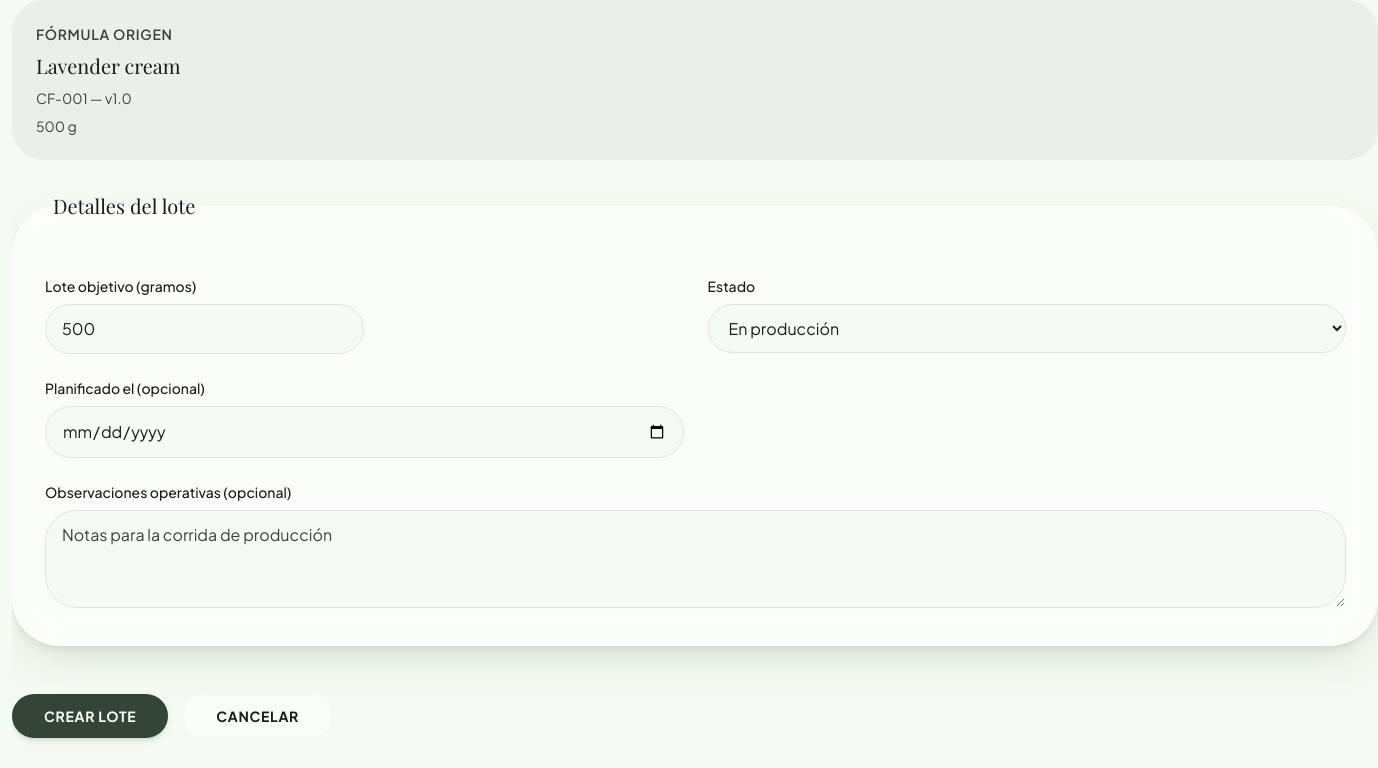
Test: LotForm › displays validation errors when target batch is missing
Clear the number field labelled "Lote objetivo (gramos)" at [205, 329], box top-left (45, 304), bottom-right (364, 354)
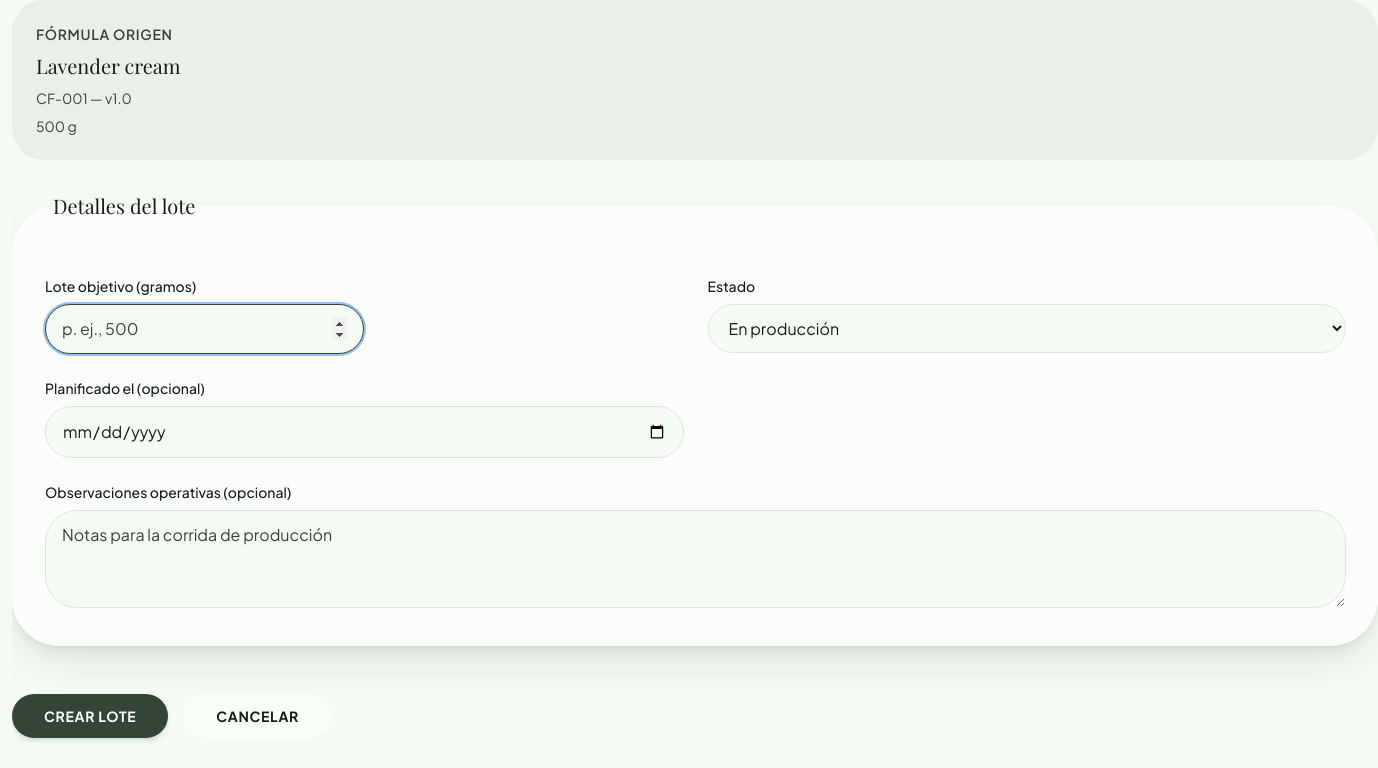
Submit the form
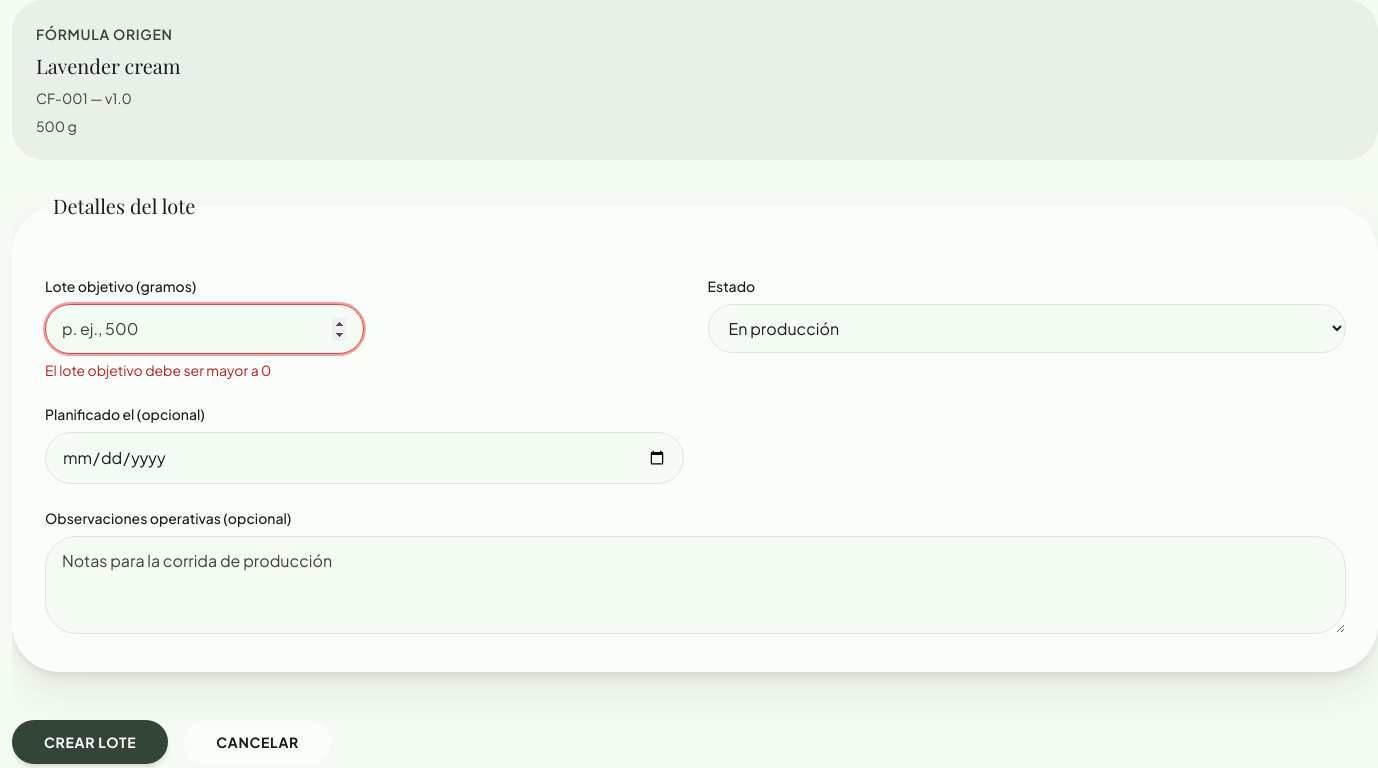
Now the text "El lote objetivo debe ser mayor a 0" is shown, box top-left (45, 361), bottom-right (271, 379)
